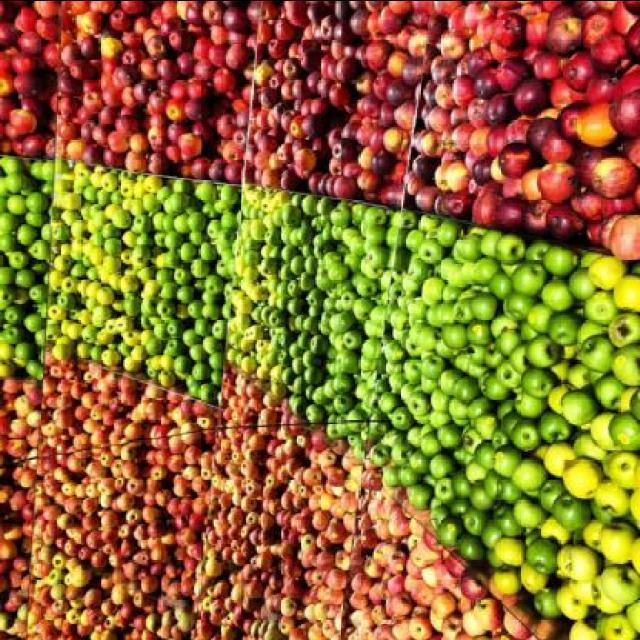Apple pie: (0, 2, 638, 640), (588, 154, 636, 197)
